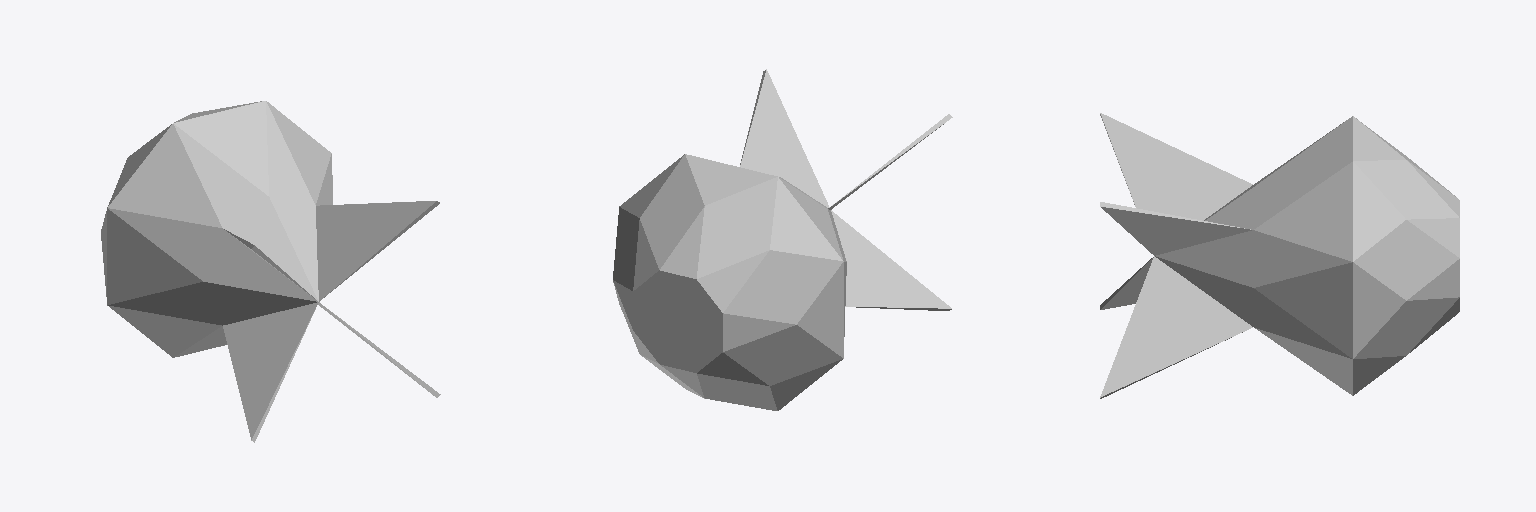
Rendered from rocket.obj.
The picture shows the model from 3 angles: view 1: azimuth 30°, elevation 25°; view 2: azimuth 150°, elevation 25°; view 3: azimuth 270°, elevation 25°; orthographic projection.
Visible parts, largest first — view 1: rocket; view 2: rocket; view 3: rocket.
Part boxes in pixels (left/top/right/bottom): rocket: left=101, top=101, right=440, bottom=442; rocket: left=613, top=69, right=952, bottom=410; rocket: left=1100, top=113, right=1459, bottom=398.
Bounding box in the file's own units: 1.97 × 1.97 × 2.74.